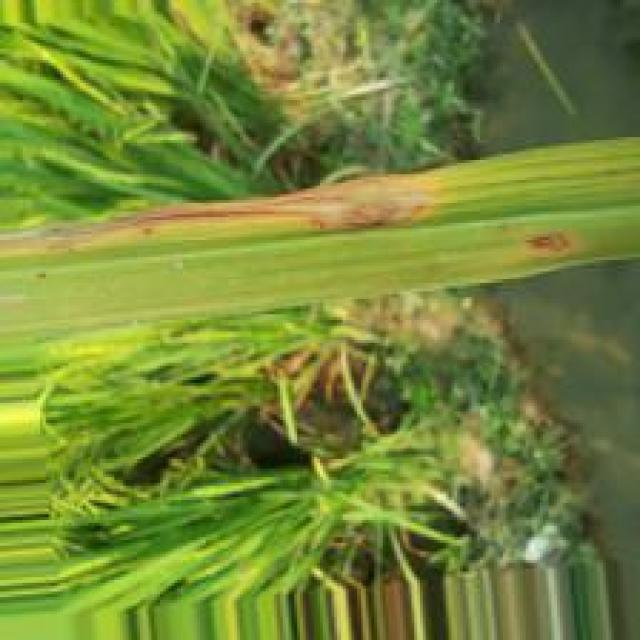Rice Tungro: (0, 167, 452, 254), (521, 222, 594, 261)
